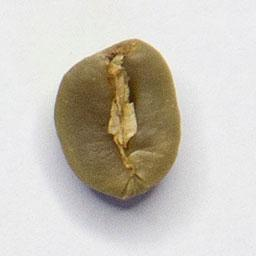premium: (51, 37, 184, 202)
